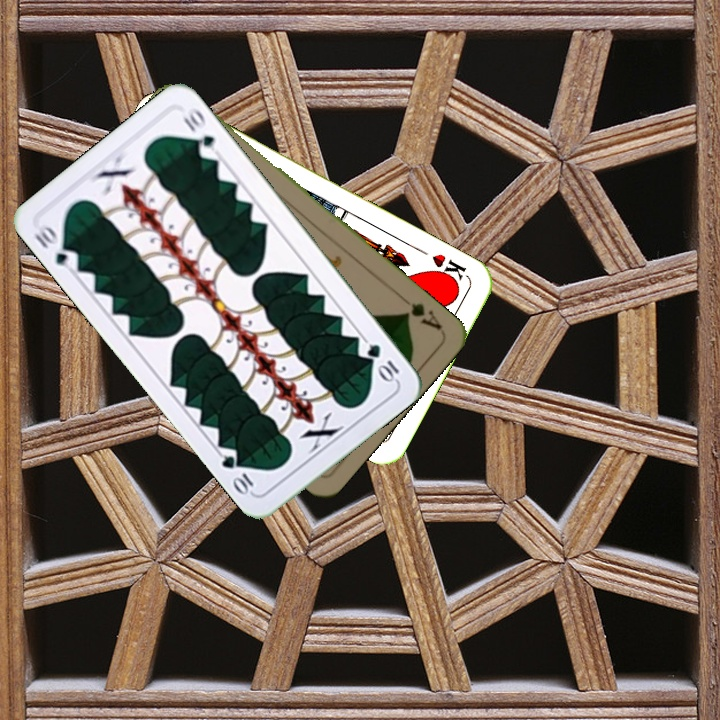G10: (30, 221, 82, 274), (362, 339, 402, 385)
GA: (394, 291, 444, 333)
HK: (427, 249, 471, 287)
